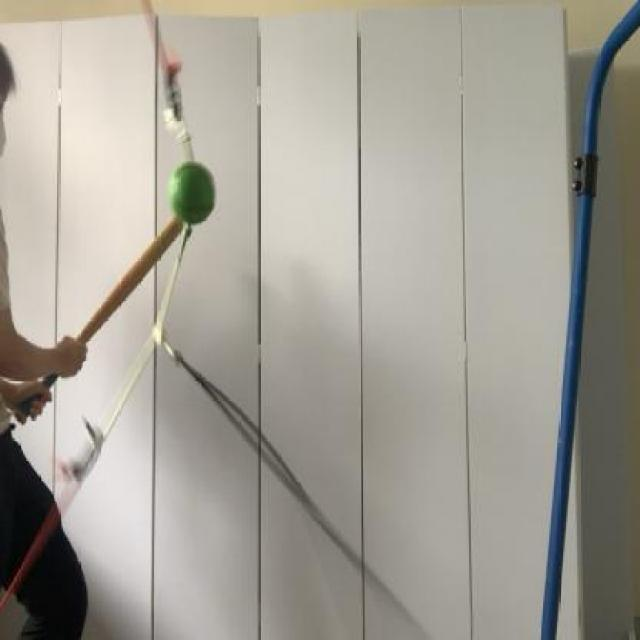baseball: (162, 159, 218, 230)
